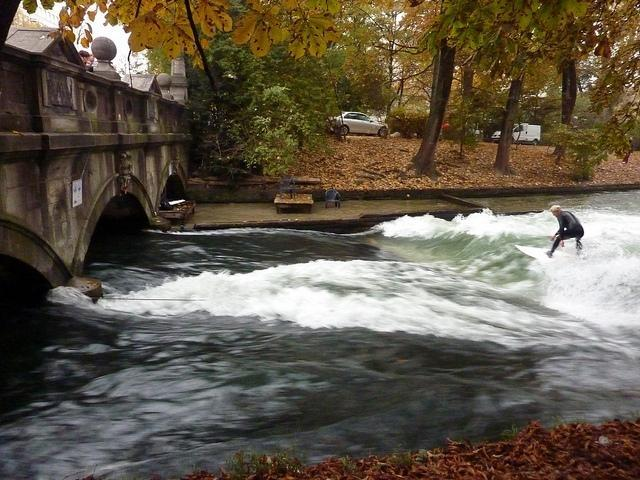car: (330, 113, 388, 137)
truck: (492, 123, 540, 146)
